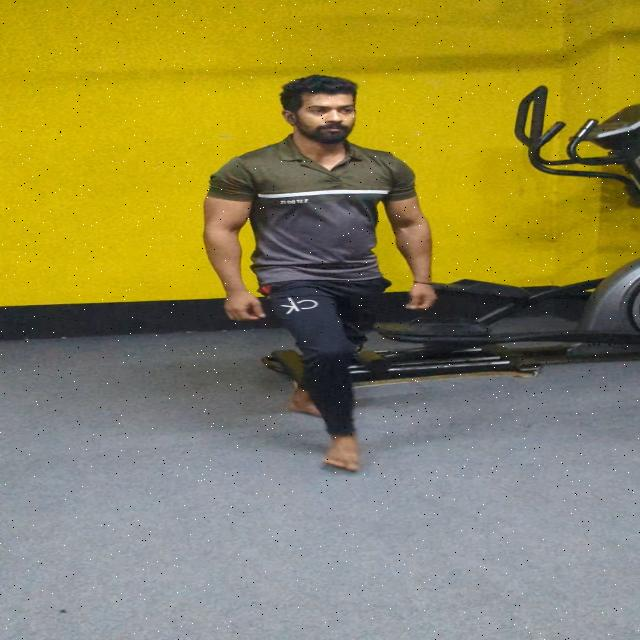Normal_Lunges: (130, 69, 464, 557)
